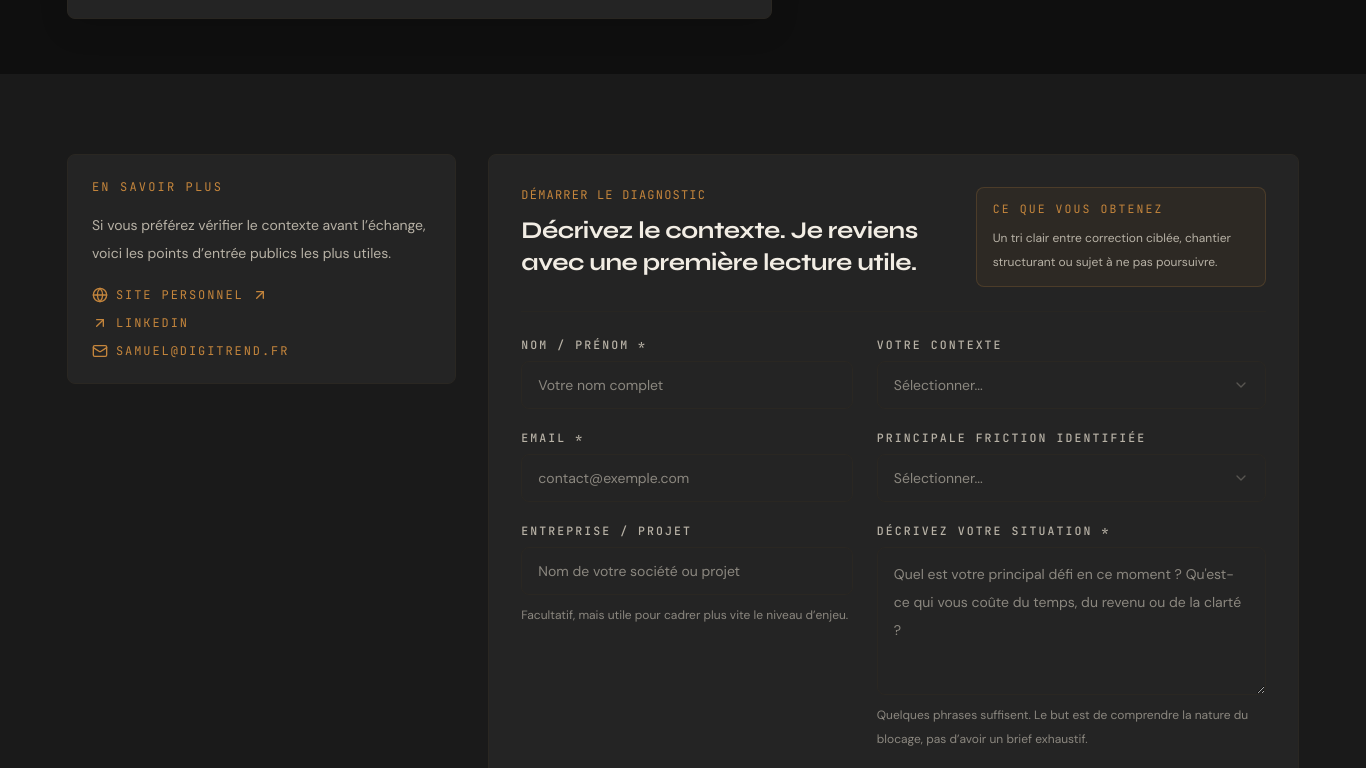
Test case: ContactPage › submits the real form payload through the secure endpoint
(page scrolled)
Type "Jean Dupont" into the field labelled "Nom / prénom *" at (687, 385), box [521,361,853,409]
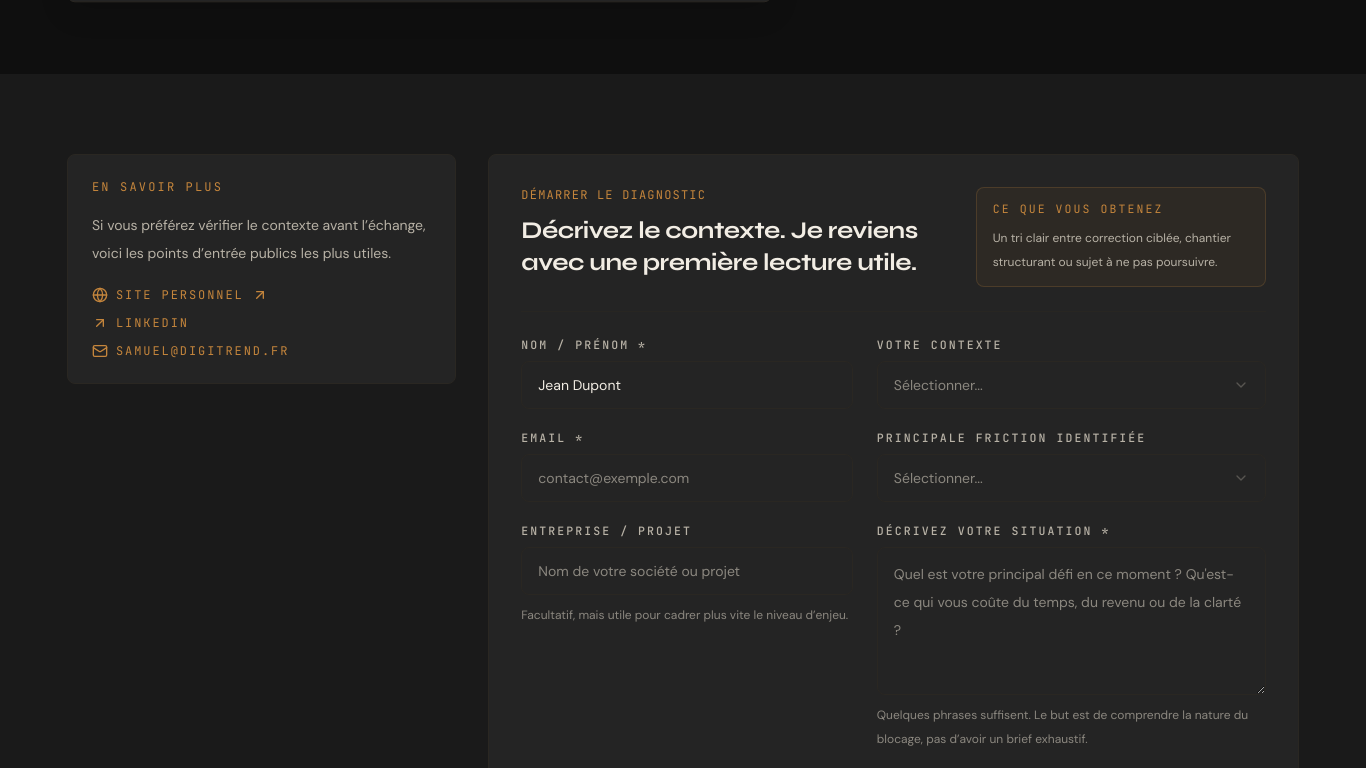
Type "jean@example.com" into the field labelled "Email *" at (687, 478), box [521,454,853,502]
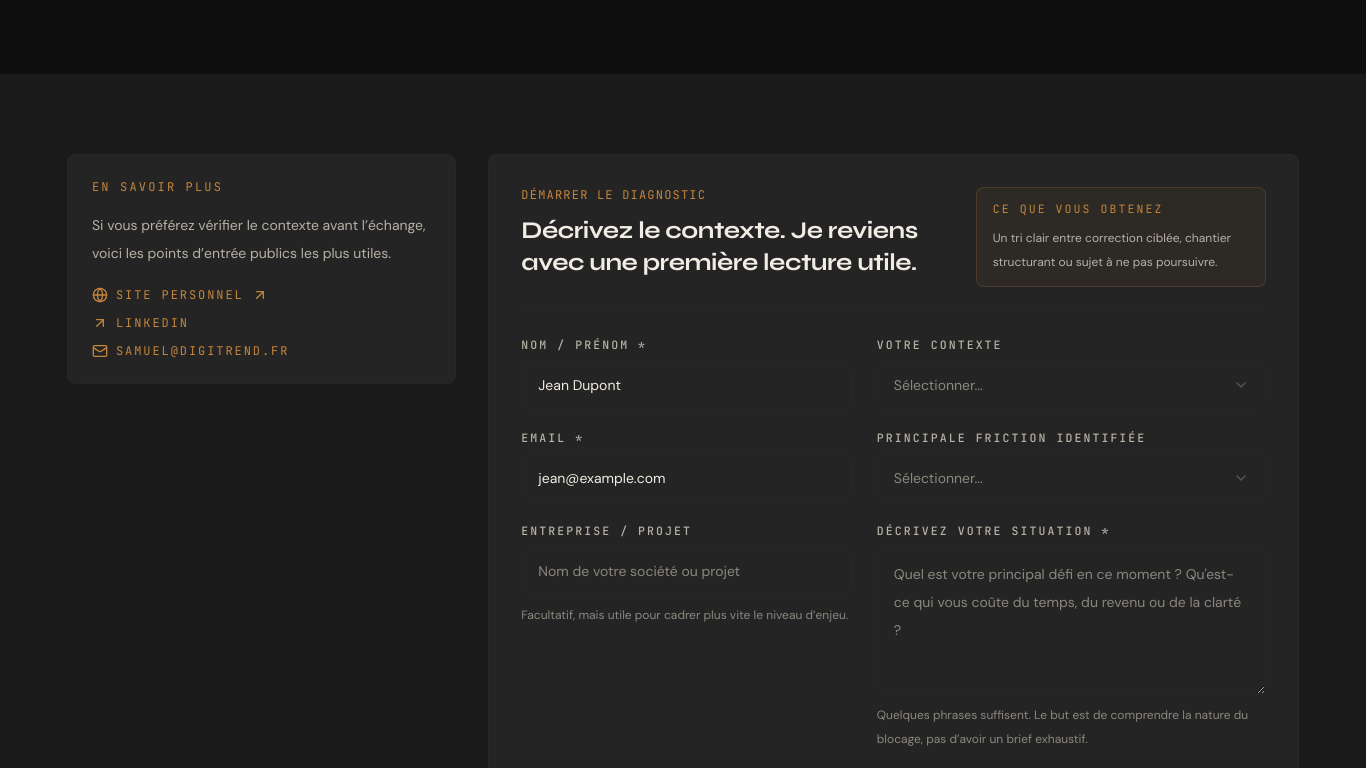
Type "Acme" into the field labelled "Entreprise / projet" at (687, 571), box [521,547,853,595]
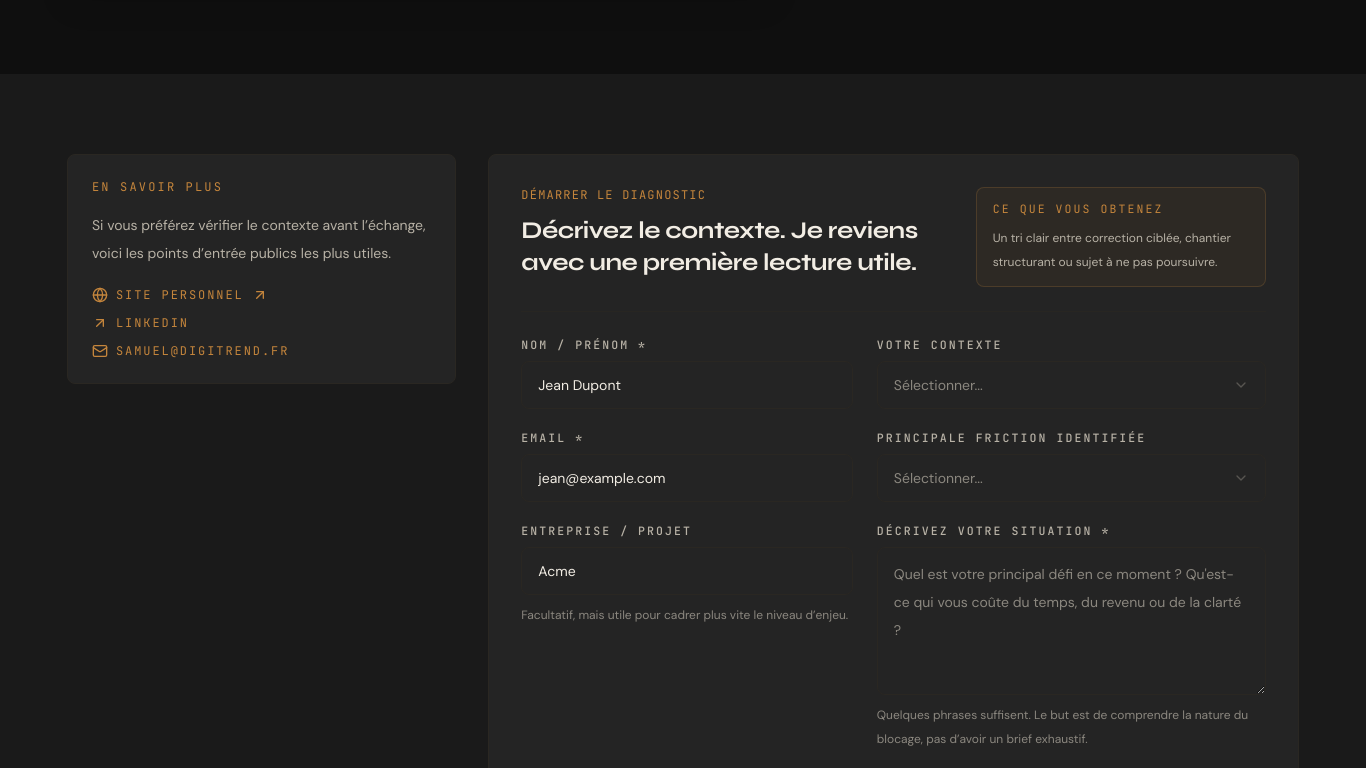
Replace the text in the text box labelled "Décrivez votre situation *" with "Le CRM et le tunnel ne se parlent pas correctement." at (1071, 621), box [877,547,1266,695]
(page scrolled)
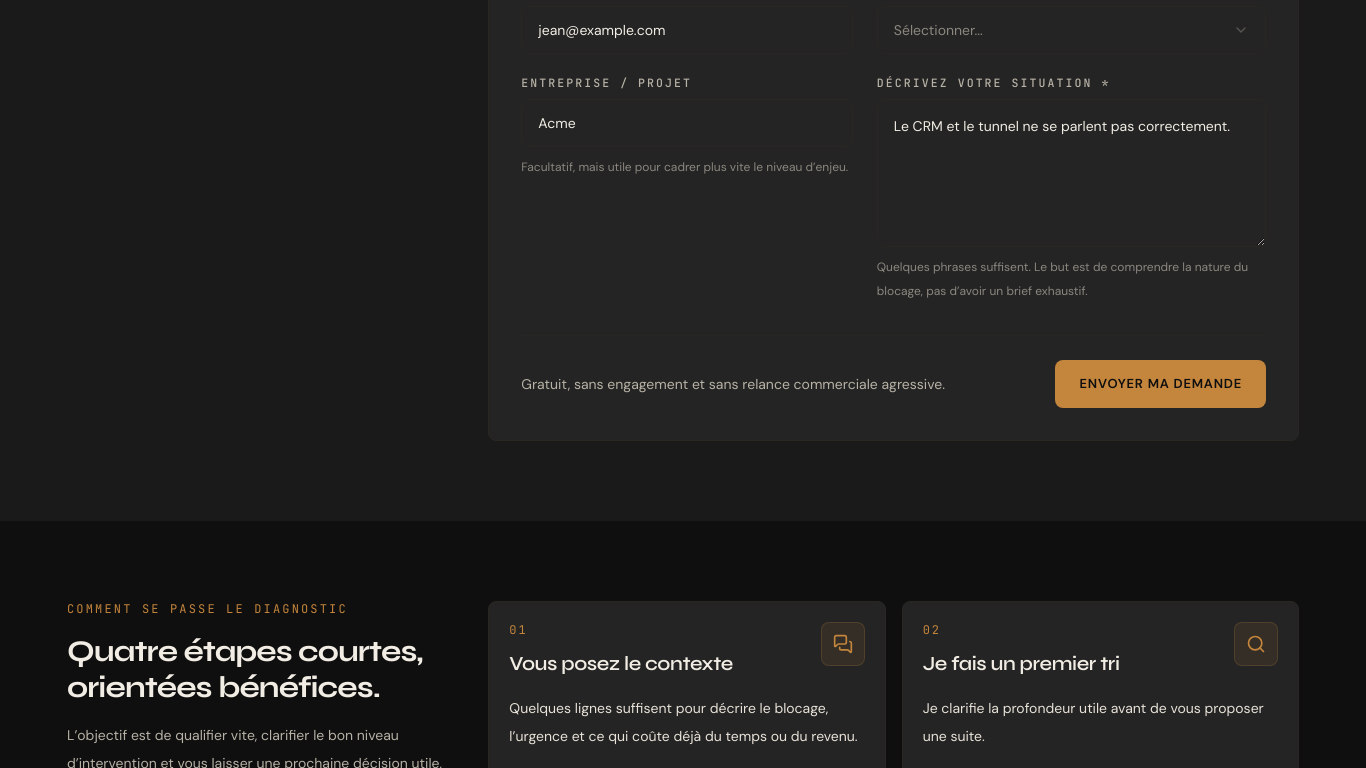
Click the button "Envoyer ma demande" at (1161, 384), box [1056,360,1266,408]
(page scrolled)
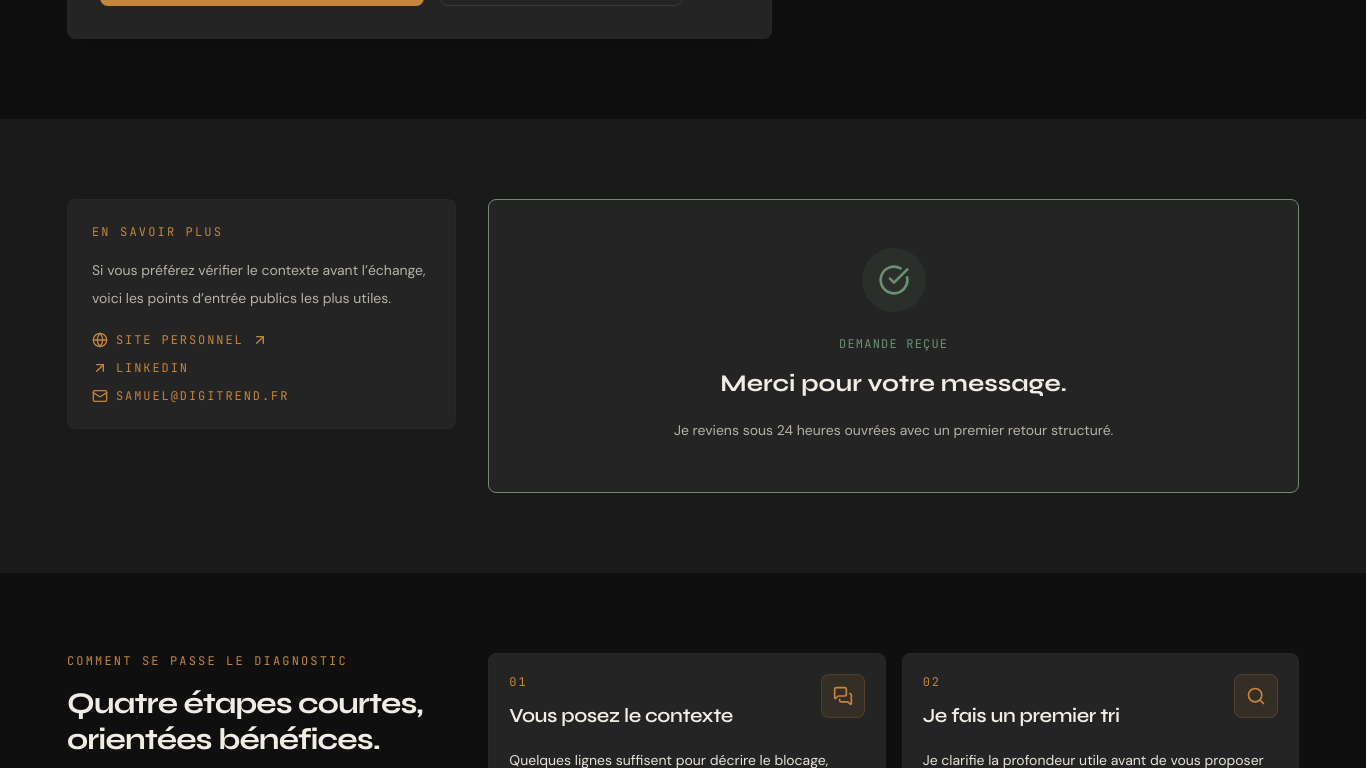
Check: the heading "Merci pour votre message." is shown, box [720,369,1067,398]
